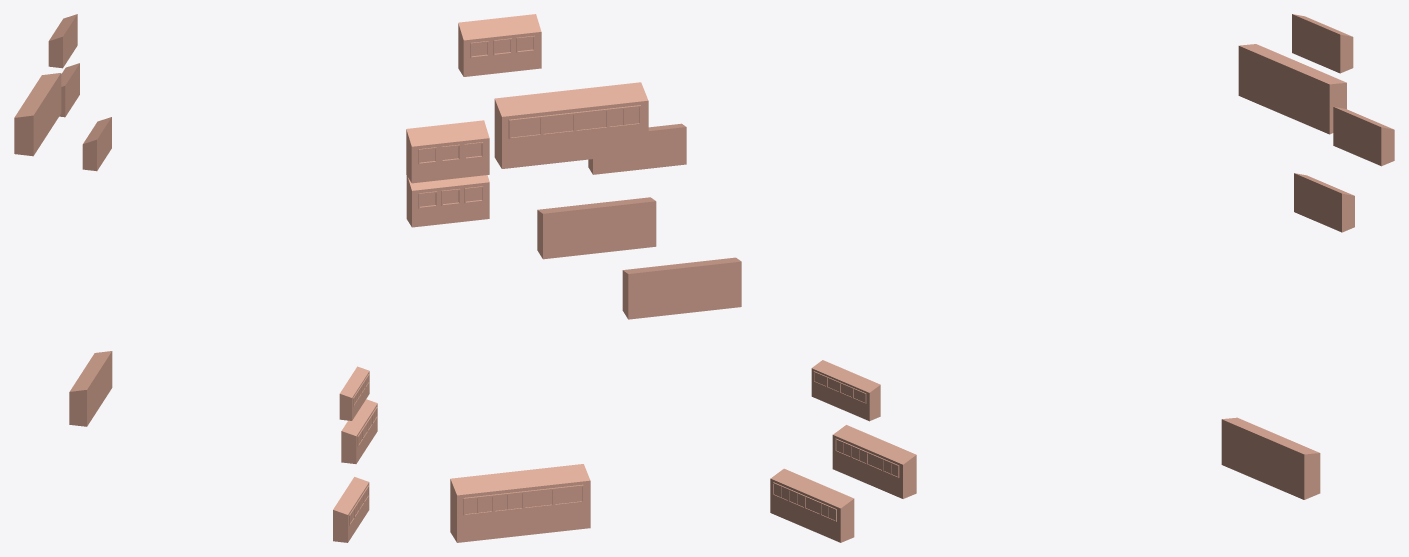
Rendered from maison bidonville 1 01.fbx.
3 renders of one model, left to right at view 1: azimuth 30°, elevation 25°; view 2: azimuth 150°, elevation 25°; view 3: azimuth 270°, elevation 25°, orthographic. The views are drawn at different scales.
Parts seen in each view (by area): view 1: Cube.069, Cube.393, Cube.100, Cube.098, Cube.596, Cube.088, Cube.102, Cube.070; view 2: Cube.069, Cube.393, Cube.098, Cube.100, Cube.070, Cube.596, Cube.088, Plane.205, Cube.102, Plane.509; view 3: Cube.069, Cube.393, Cube.098, Cube.100, Cube.070, Cube.596, Cube.088, Cube.102, Plane.235, Plane.236.
Part boxes in pixels (x1,y1,x2,y2): Cube.069: [14, 73, 61, 156]; Cube.393: [69, 351, 112, 426]; Cube.100: [333, 477, 369, 542]; Cube.098: [341, 399, 377, 463]; Cube.596: [48, 14, 77, 68]; Cube.088: [82, 117, 111, 171]; Cube.102: [339, 366, 369, 420]; Cube.070: [59, 63, 79, 117]; Cube.069: [494, 82, 648, 168]; Cube.393: [450, 464, 590, 542]; Cube.098: [537, 197, 656, 259]; Cube.100: [622, 257, 741, 319]; Cube.070: [406, 120, 489, 183]; Cube.596: [458, 14, 541, 76]; Cube.088: [406, 175, 489, 227]; Plane.205: [508, 105, 640, 139]; Cube.102: [588, 123, 686, 174]; Plane.509: [463, 484, 583, 515]; Cube.069: [1238, 44, 1346, 134]; Cube.393: [1221, 417, 1320, 499]; Cube.098: [832, 425, 916, 498]; Cube.100: [770, 468, 854, 542]; Cube.070: [1333, 107, 1394, 166]; Cube.596: [1292, 14, 1353, 73]; Cube.088: [1294, 173, 1354, 232]; Cube.102: [811, 360, 880, 421]; Plane.235: [835, 438, 899, 478]; Plane.236: [773, 482, 836, 521].
Size of the model in its own units: 2936 by 4703 by 5847.
